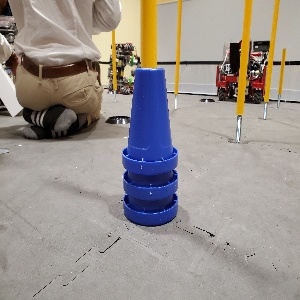Blue_3: (122, 66, 178, 225)
